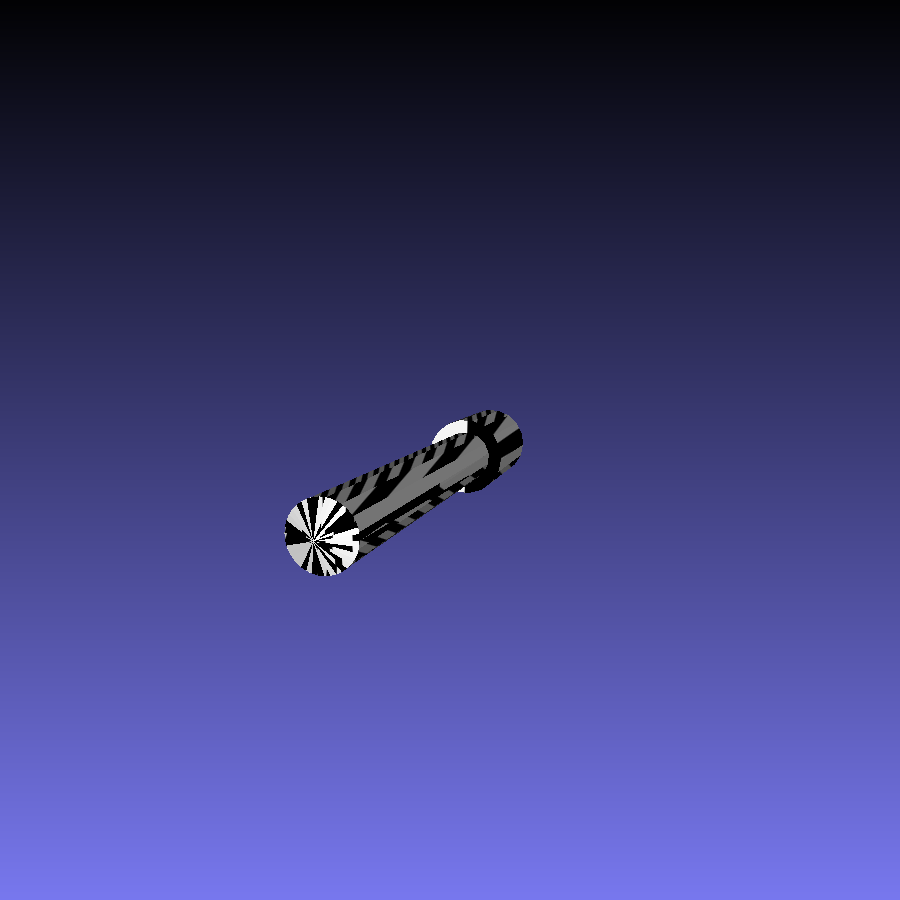cargo_g: (283, 409, 525, 577)
